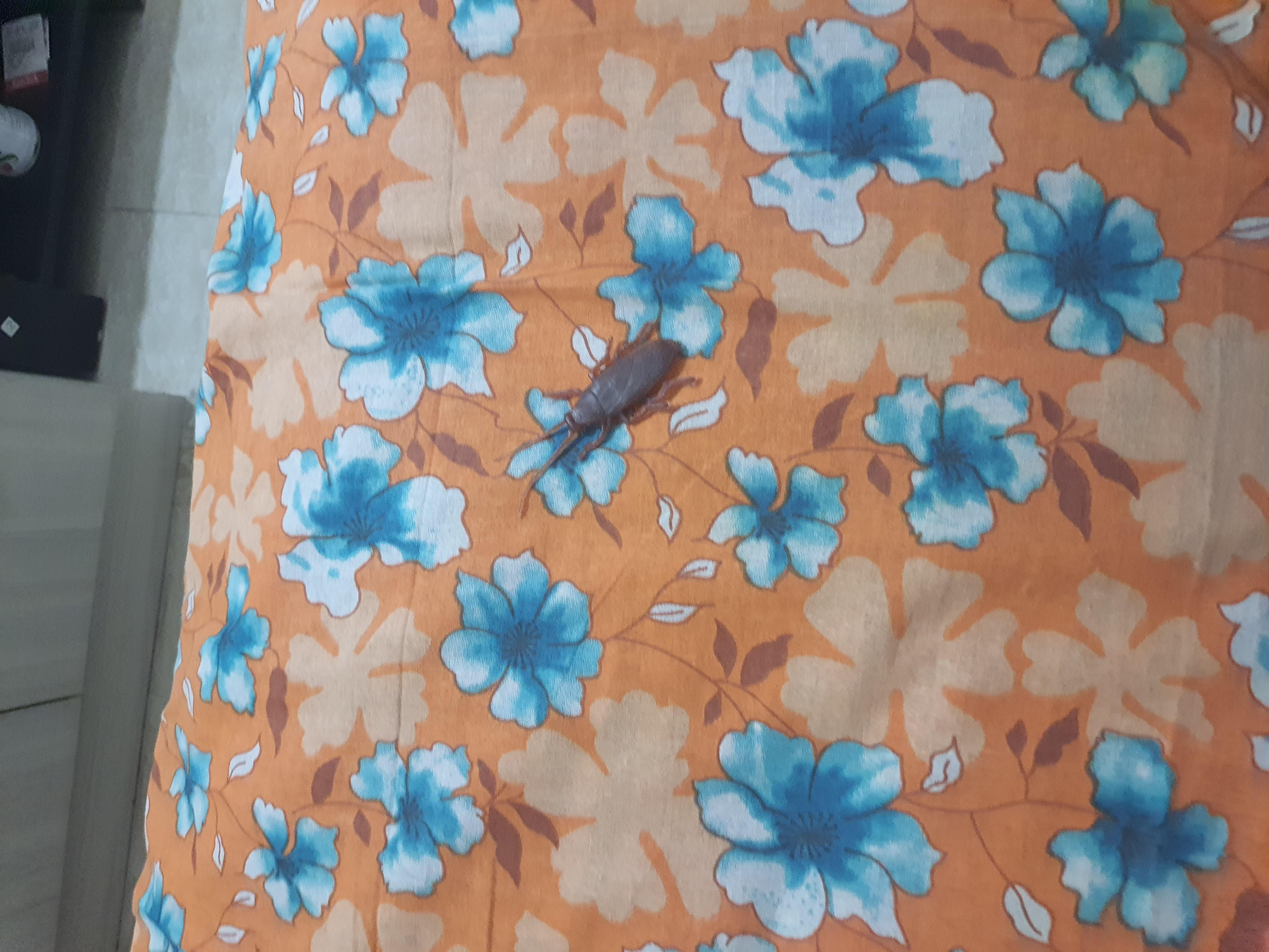cockroach: (572, 365, 867, 533)
